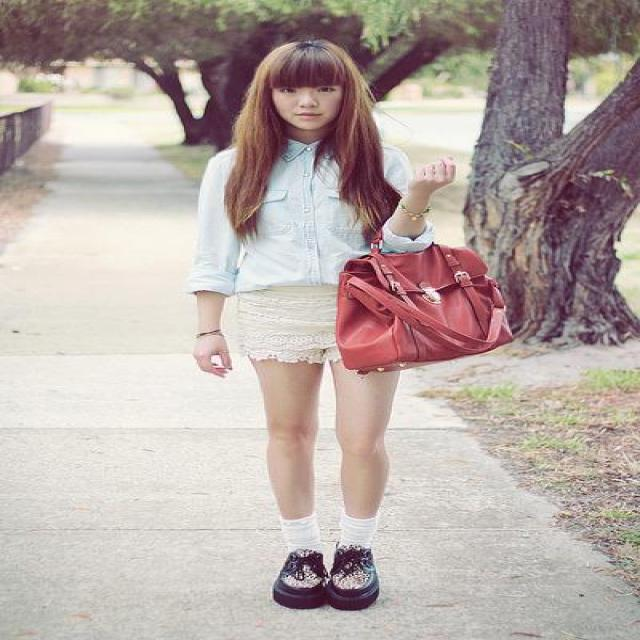bag: (334, 243, 510, 374)
shirt: (187, 141, 429, 292)
shoe: (274, 547, 378, 610)
skirt: (211, 277, 341, 370)
